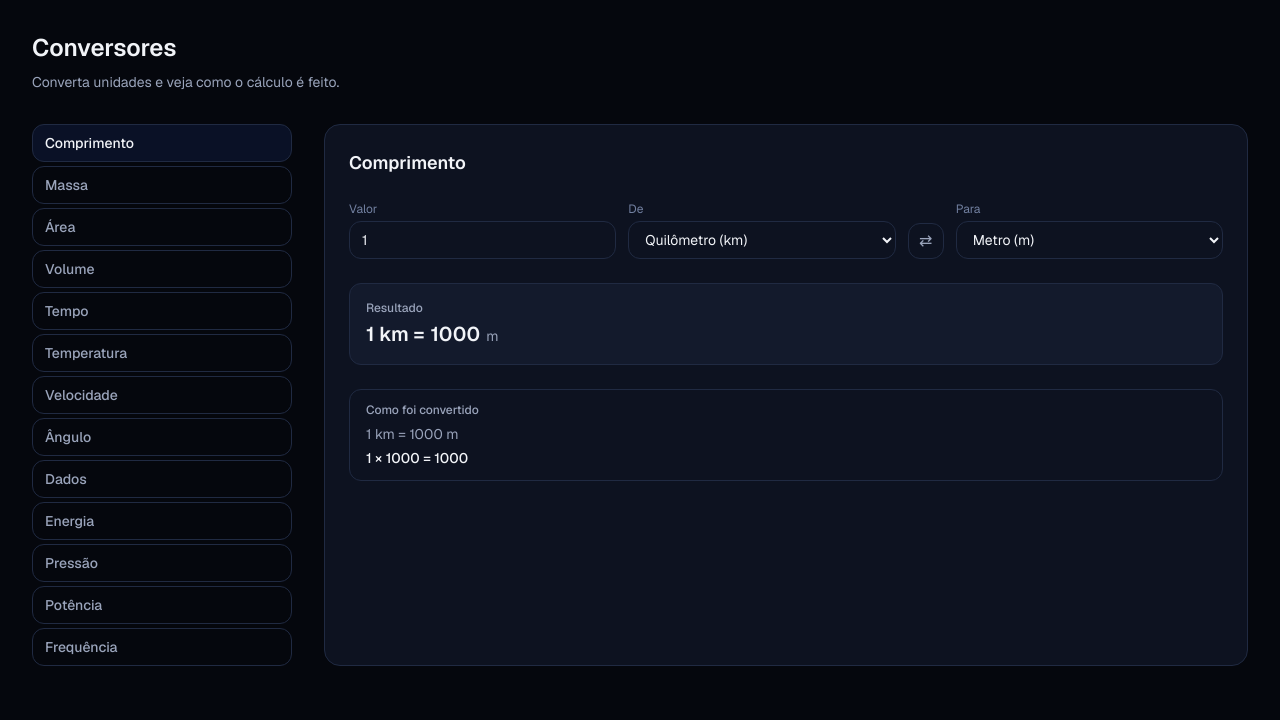
ConvertersWorkspace › botão de inverter troca origem/destino e tem nome acessível
expect the dropdown labelled "De" shows "Quilômetro (km)": met, box 628,221 -> 896,259
expect the dropdown labelled "Para" shows "Metro (m)": met, box 956,221 -> 1223,259
Click the button named "Inverter unidades de origem e destino".
click(926, 241)  # box 908,223 -> 944,259
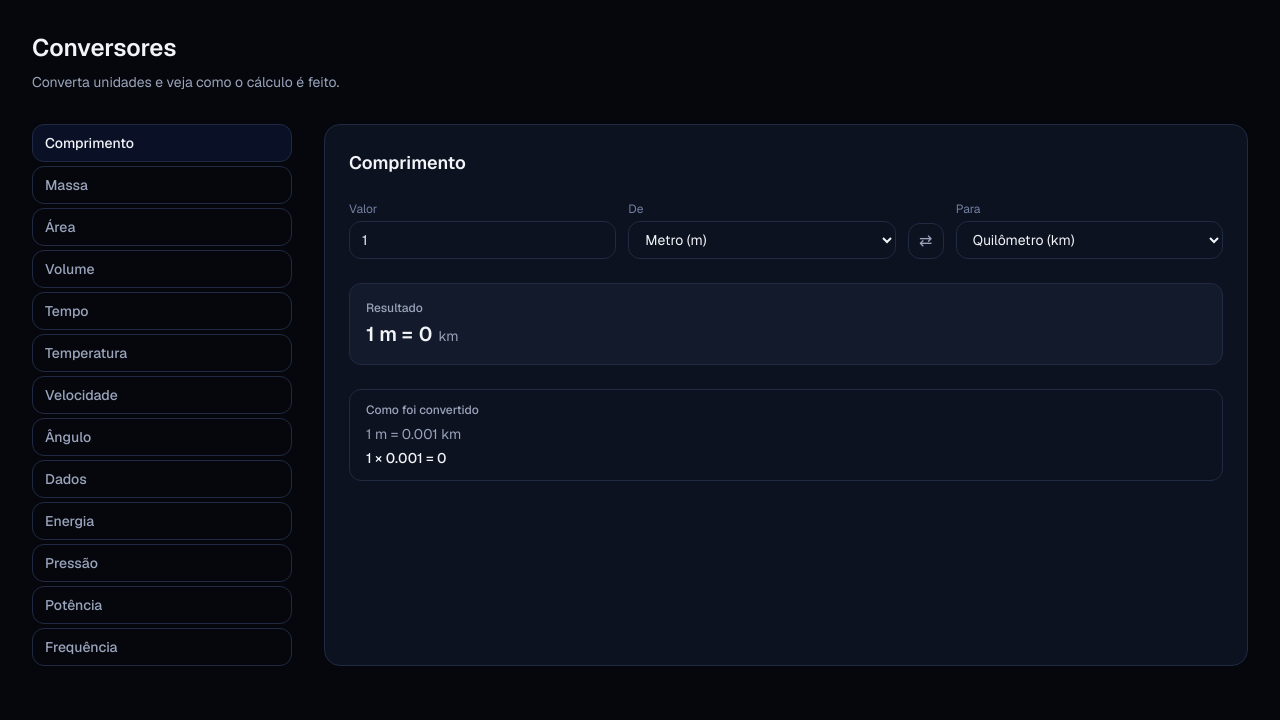
expect the dropdown labelled "De" shows "Metro (m)": met, box 628,221 -> 896,259
expect the dropdown labelled "Para" shows "Quilômetro (km)": met, box 956,221 -> 1223,259
